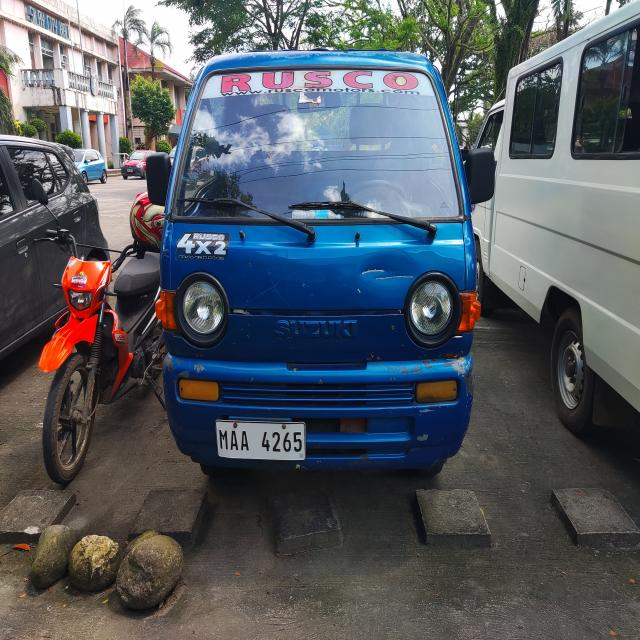plate: (215, 418, 306, 462)
